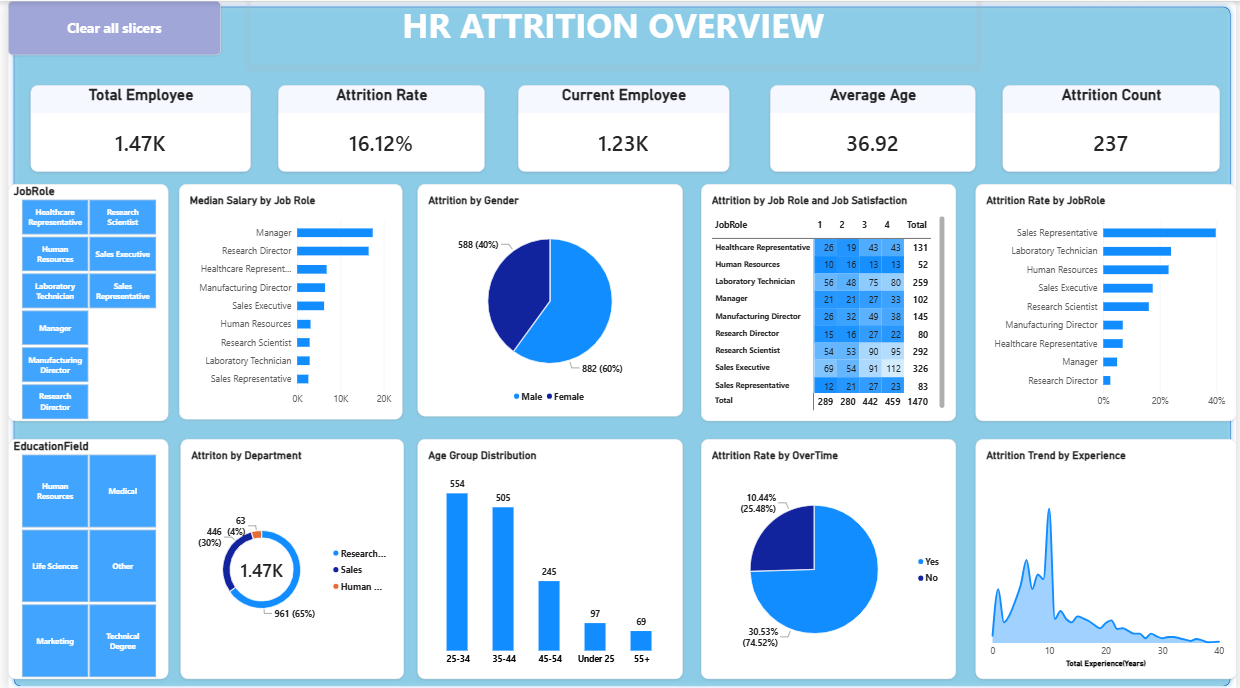

This screenshot's page, from the dashboard's own definition file:
{"tool":"powerbi","page":{"name":"Dasahboard Report","canvas":[1920,1080],"ordinal":0},"visuals":[{"type":"shape","box":[0,0,1920.1,1080.8],"z":0},{"type":"cardVisual","title":"Total Employee","fields":{"Data":["HR Data.Total Employee Count"]},"box":[35.2,131.3,344.6,136],"z":1000},{"type":"textbox","box":[379.8,0,1132.4,100.8],"z":2000},{"type":"cardVisual","title":"Attrition Rate","fields":{"Data":["HR Data.Attrition Rate"]},"box":[422,131.3,323.5,136],"z":3000},{"type":"cardVisual","title":"Current Employee","fields":{"Data":["HR Data.Total Employee Count"]},"box":[797.1,131.3,330.6,136],"z":4000},{"type":"cardVisual","title":"Average Age","fields":{"Data":["Avg(HR Data.Age)"]},"box":[1191,131.3,321.2,136],"z":5000},{"type":"cardVisual","title":"Attrition Count","fields":{"Data":["CountNonNull(HR Data.Attrition Count)"]},"box":[1554.4,131.3,339.9,136],"z":6000},{"type":"donutChart","title":"Attriton by Department","fields":{"Category":["HR Data.Department"],"Y":["CountNonNull(HR Data.Attrition Count)"]},"box":[269.6,684.6,349.3,375.1],"z":7000},{"type":"clusteredBarChart","title":" Median Salary by Job Role","fields":{"Category":["HR Data.JobRole"],"Y":["HR Data.Monthly Median Salary"]},"box":[267.3,286,349.3,368.1],"z":8000},{"type":"pivotTable","title":"Attrition by Job Role and Job Satisfaction","fields":{"Columns":["HR Data.JobSatisfaction"],"Rows":["HR Data.JobRole"],"Values":["CountNonNull(HR Data.Attrition Count)"]},"box":[1083.2,286,398.6,370.4],"z":9000},{"type":"columnChart","title":"Age Group Distribution","fields":{"Category":["HR Data.Age Group"],"Y":["CountNonNull(HR Data.EmployeeNumber)"]},"box":[640,684.6,415,375.1],"z":10000},{"type":"pieChart","title":" Attrition by Gender","fields":{"Category":["HR Data.Gender"],"Y":["CountNonNull(HR Data.Attrition Count)"]},"box":[640,286,415,363.4],"z":11000},{"type":"areaChart","title":"Attrition Trend by Experience","fields":{"Category":["HR Data.TotalWorkingYears"],"Y2":["CountNonNull(HR Data.Attrition Count)"]},"box":[1512.2,684.6,407.9,375.1],"z":12000},{"type":"slicer","fields":{"Values":["HR Data.JobRole"]},"box":[0,286,250.9,370.4],"z":13000},{"type":"pieChart","fields":{"Category":["HR Data.OverTime"],"Y":["HR Data.Attrition Rate"]},"box":[1083.2,684.6,398.6,375.1],"z":14000},{"type":"slicer","fields":{"Values":["HR Data.EducationField"]},"box":[0,684.6,250.9,375.1],"z":15000},{"type":"clusteredBarChart","fields":{"Category":["HR Data.JobRole"],"Y":["HR Data.Attrition Rate"]},"box":[1512.2,286,407.9,370.4],"z":16000},{"type":"actionButton","box":[0,0,332.9,84.4],"z":17000}]}

Visuals, with their boxes in screenshot pixels (x1, y1, x2, y2), scaled from the page's 1920x1080 canvas onto the 1240x688 screenshot:
shape: detection(0, 0, 1239, 687)
"Total Employee" cardVisual: detection(23, 84, 245, 170)
textbox: detection(245, 0, 977, 64)
"Attrition Rate" cardVisual: detection(273, 84, 481, 170)
"Current Employee" cardVisual: detection(515, 84, 728, 170)
"Average Age" cardVisual: detection(769, 84, 977, 170)
"Attrition Count" cardVisual: detection(1004, 84, 1223, 170)
"Attriton by Department" donutChart: detection(174, 436, 400, 675)
" Median Salary by Job Role" clusteredBarChart: detection(173, 182, 398, 417)
"Attrition by Job Role and Job Satisfaction" pivotTable: detection(700, 182, 957, 418)
"Age Group Distribution" columnChart: detection(413, 436, 681, 675)
" Attrition by Gender" pieChart: detection(413, 182, 681, 414)
"Attrition Trend by Experience" areaChart: detection(977, 436, 1239, 675)
slicer - HR Data.JobRole: detection(0, 182, 162, 418)
pieChart - HR Data.OverTime x HR Data.Attrition Rate: detection(700, 436, 957, 675)
slicer - HR Data.EducationField: detection(0, 436, 162, 675)
clusteredBarChart - HR Data.JobRole x HR Data.Attrition Rate: detection(977, 182, 1239, 418)
actionButton: detection(0, 0, 215, 54)
